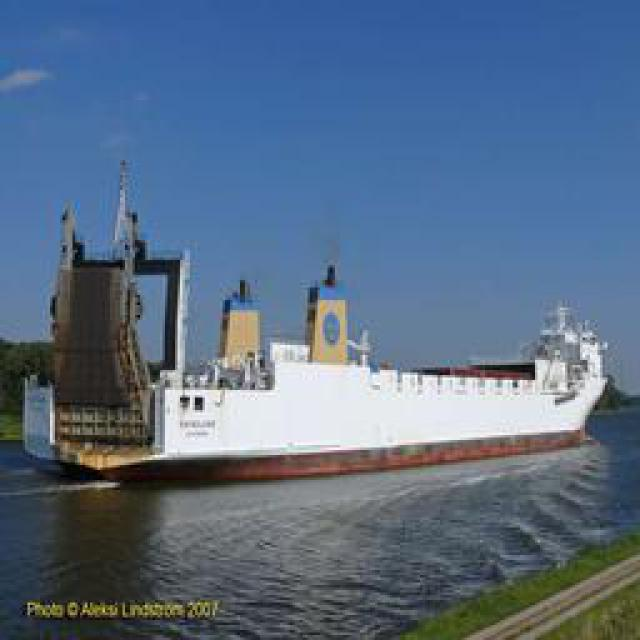Ship: (42, 276, 612, 484)
